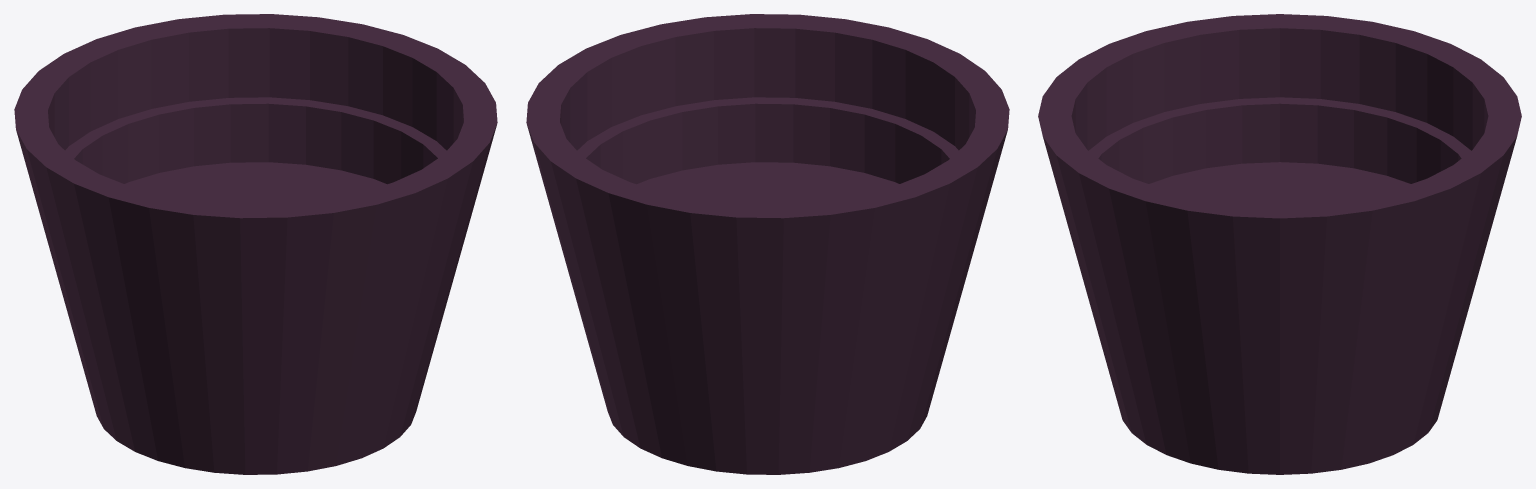
The model's file is Bucket.fbx.
3 views of the same model, side by side, from view 1: azimuth 30°, elevation 25°; view 2: azimuth 150°, elevation 25°; view 3: azimuth 270°, elevation 25° (orthographic).
Visible parts, largest first — view 1: Cylinder; view 2: Cylinder; view 3: Cylinder.
Part boxes in pixels (left/top/right/bottom): Cylinder: left=14, top=14, right=497, bottom=474; Cylinder: left=526, top=14, right=1009, bottom=474; Cylinder: left=1038, top=14, right=1521, bottom=474.
Size of the model in its own units: 396 by 263 by 396.
